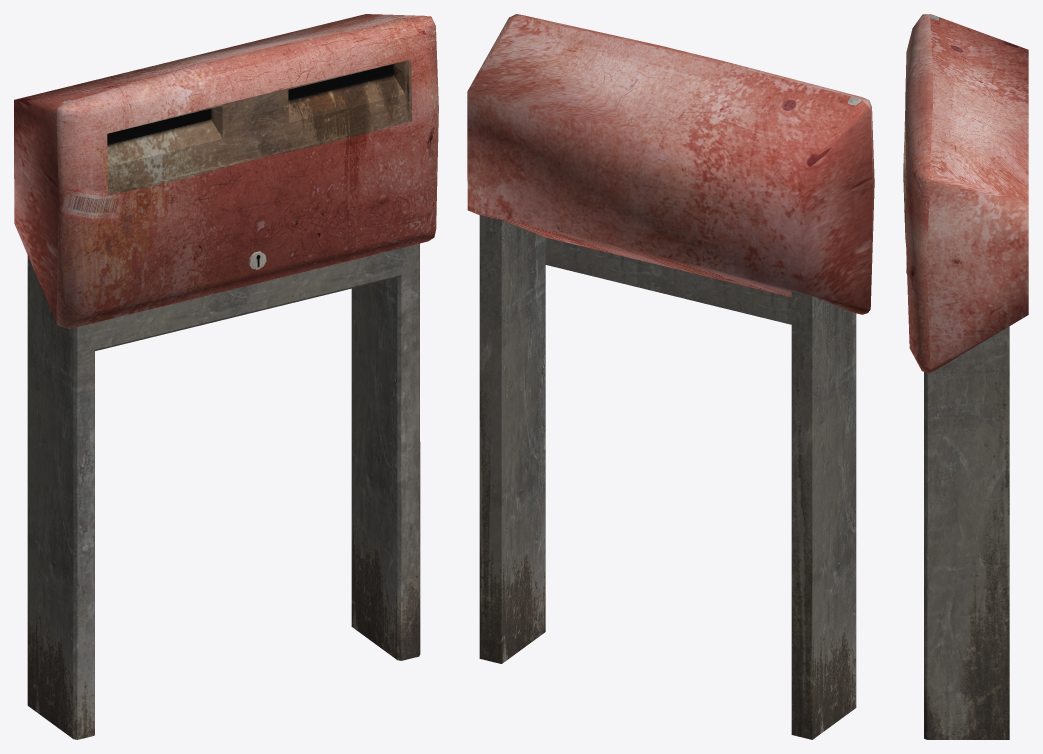
The model's file is Model_Mailbox_04.fbx.
The picture shows the model from 3 angles, left to right: view 1: azimuth 30°, elevation 25°; view 2: azimuth 150°, elevation 25°; view 3: azimuth 270°, elevation 25°; orthographic projection. The views are drawn at different scales.
Parts seen in each view (by area): view 1: MailBox_Outside; view 2: MailBox_Outside; view 3: MailBox_Outside.
Boxes of the visible parts, x1,y1,x2,y2 form: MailBox_Outside: (14, 14, 438, 739); MailBox_Outside: (467, 14, 874, 739); MailBox_Outside: (903, 14, 1028, 739).
Bounding box in the file's own units: 9079 × 14704 × 2909.
